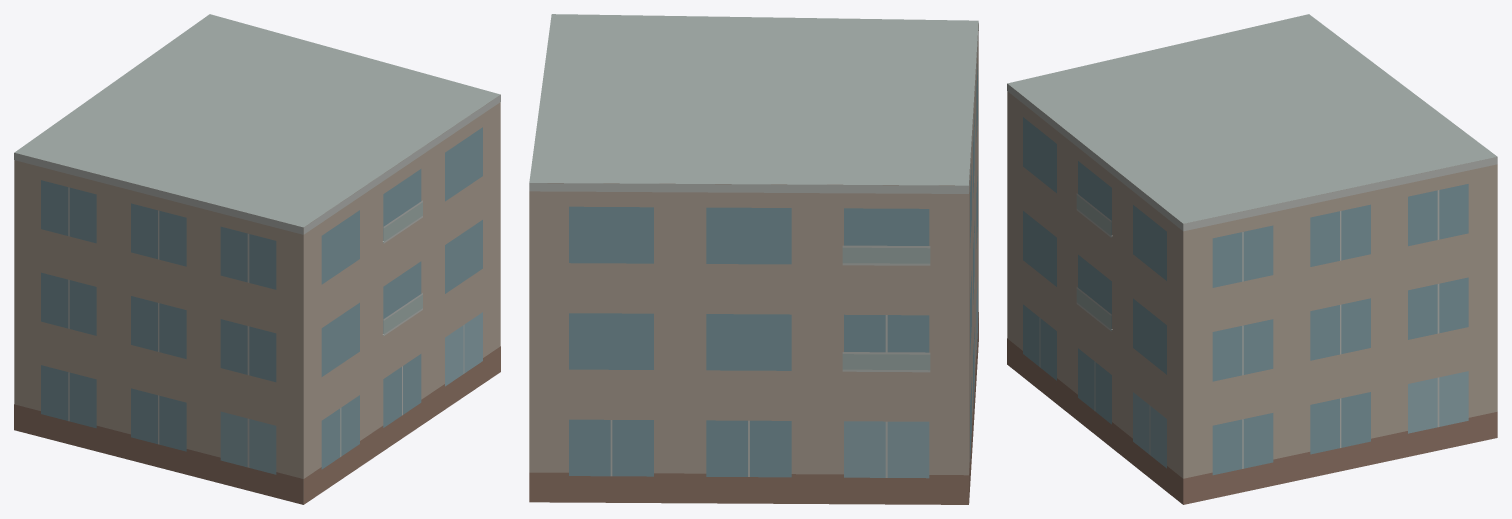
The model's file is survey-upis-32490876.glb.
The picture shows the model from 3 angles, left to right: view 1: azimuth 30°, elevation 25°; view 2: azimuth 150°, elevation 25°; view 3: azimuth 270°, elevation 25°; orthographic projection. The views are drawn at different scales.
Parts seen in each view (by area): view 1: survey-upis-32490876.tmp; view 2: survey-upis-32490876.tmp; view 3: survey-upis-32490876.tmp.
Boxes of the visible parts, x1,y1,x2,y2 form: survey-upis-32490876.tmp: [14, 14, 500, 504]; survey-upis-32490876.tmp: [529, 14, 978, 504]; survey-upis-32490876.tmp: [1007, 14, 1497, 504].
Bounding box in the file's own units: 14.66 × 9.15 × 14.48.
